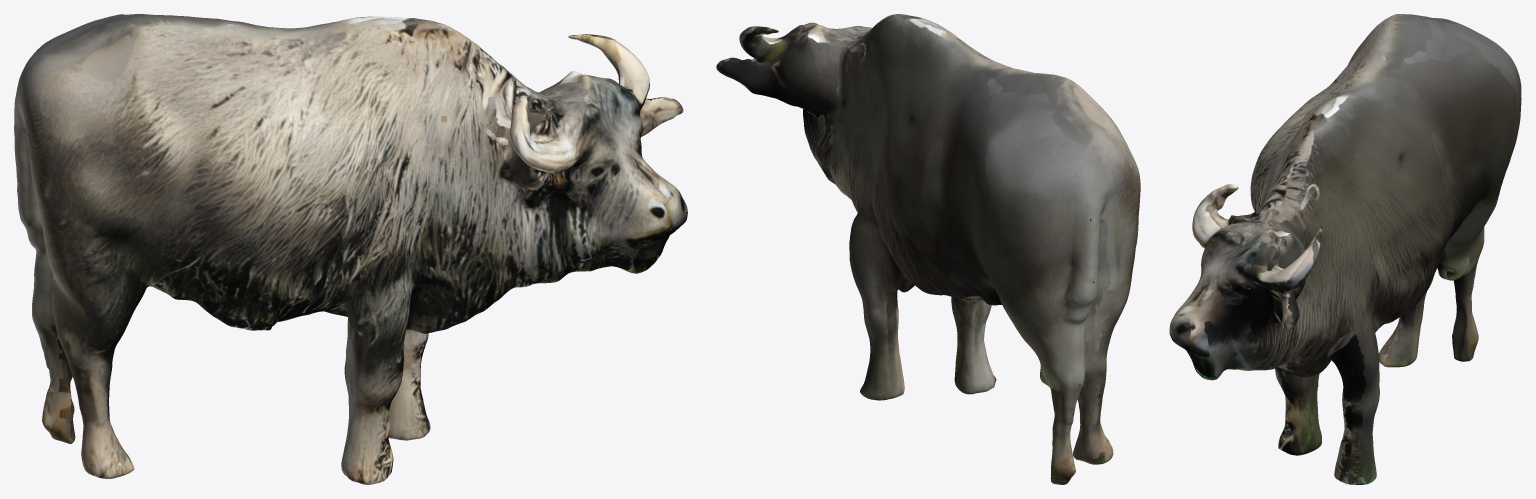
File: joven.glb
The picture shows the model from 3 angles, left to right: view 1: azimuth 30°, elevation 25°; view 2: azimuth 150°, elevation 25°; view 3: azimuth 270°, elevation 25°; orthographic projection. The views are drawn at different scales.
Visible parts, largest first — view 1: mesh; view 2: mesh; view 3: mesh.
Boxes of the visible parts, box(x1,y1,x2,y2) form: mesh: box(14, 14, 687, 484); mesh: box(716, 14, 1140, 484); mesh: box(1169, 14, 1521, 484).
Size of the model in its own units: 1.69 by 1.27 by 1.1.
Materials: 1 (1 with a texture image).
